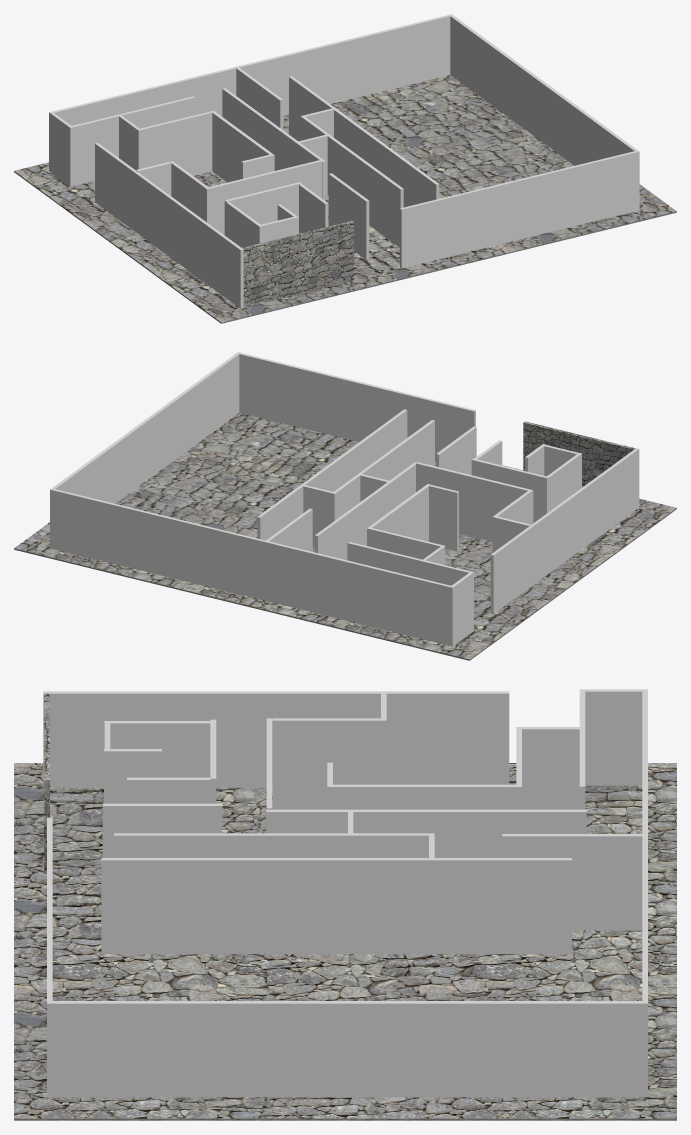
File: labirint.glb
3 views of the same model, one above another, from view 1: azimuth 30°, elevation 25°; view 2: azimuth 150°, elevation 25°; view 3: azimuth 270°, elevation 25° (orthographic). The views are drawn at different scales.
Parts seen in each view (by area): view 1: Cube, Cube.002, Cube.009, Cube.001, Cube.015, Cube.016, Cube.025, Cube.024, Cube.006, Cube.004, Cube.011, Cube.012 (+14 smaller); view 2: Cube, Cube.002, Cube.009, Cube.001, Cube.015, Cube.025, Cube.012, Cube.011, Cube.024, Cube.016, Cube.004, Cube.007 (+13 smaller); view 3: Cube, Cube.001, Cube.025, Cube.015, Cube.011, Cube.013, Cube.010, Cube.024, Cube.003, Cube.007, Cube.005, Cube.020 (+8 smaller).
Boxes of the visible parts, x1=… form: Cube: x1=14, y1=75, x2=676, y2=323; Cube.002: x1=52, y1=15, x2=450, y2=125; Cube.009: x1=400, y1=151, x2=636, y2=268; Cube.001: x1=449, y1=14, x2=639, y2=210; Cube.015: x1=95, y1=143, x2=243, y2=308; Cube.016: x1=242, y1=221, x2=354, y2=307; Cube.025: x1=289, y1=76, x2=439, y2=207; Cube.024: x1=300, y1=115, x2=403, y2=247; Cube.006: x1=140, y1=110, x2=214, y2=175; Cube.004: x1=72, y1=96, x2=195, y2=185; Cube.011: x1=222, y1=88, x2=325, y2=200; Cube.012: x1=205, y1=160, x2=322, y2=234; Cube: x1=14, y1=413, x2=676, y2=660; Cube.002: x1=53, y1=489, x2=450, y2=645; Cube.009: x1=239, y1=353, x2=475, y2=460; Cube.001: x1=50, y1=352, x2=240, y2=548; Cube.015: x1=490, y1=448, x2=639, y2=613; Cube.025: x1=257, y1=409, x2=407, y2=540; Cube.012: x1=416, y1=462, x2=533, y2=541; Cube.011: x1=314, y1=462, x2=416, y2=560; Cube.024: x1=332, y1=420, x2=434, y2=520; Cube.016: x1=523, y1=421, x2=635, y2=487; Cube.004: x1=347, y1=542, x2=470, y2=585; Cube.007: x1=369, y1=484, x2=430, y2=541; Cube: x1=14, y1=763, x2=676, y2=1120; Cube.001: x1=47, y1=1001, x2=647, y2=1097; Cube.025: x1=101, y1=858, x2=571, y2=954; Cube.015: x1=43, y1=691, x2=509, y2=787; Cube.011: x1=266, y1=809, x2=586, y2=857; Cube.013: x1=272, y1=718, x2=386, y2=809; Cube.010: x1=502, y1=834, x2=642, y2=930; Cube.024: x1=114, y1=833, x2=434, y2=857; Cube.003: x1=579, y1=689, x2=647, y2=785; Cube.007: x1=327, y1=784, x2=516, y2=809; Cube.005: x1=516, y1=727, x2=579, y2=809; Cube.020: x1=104, y1=721, x2=210, y2=777.
Bounding box in the file's own units: 133 × 17.06 × 105.
1 material, 1 textured.
